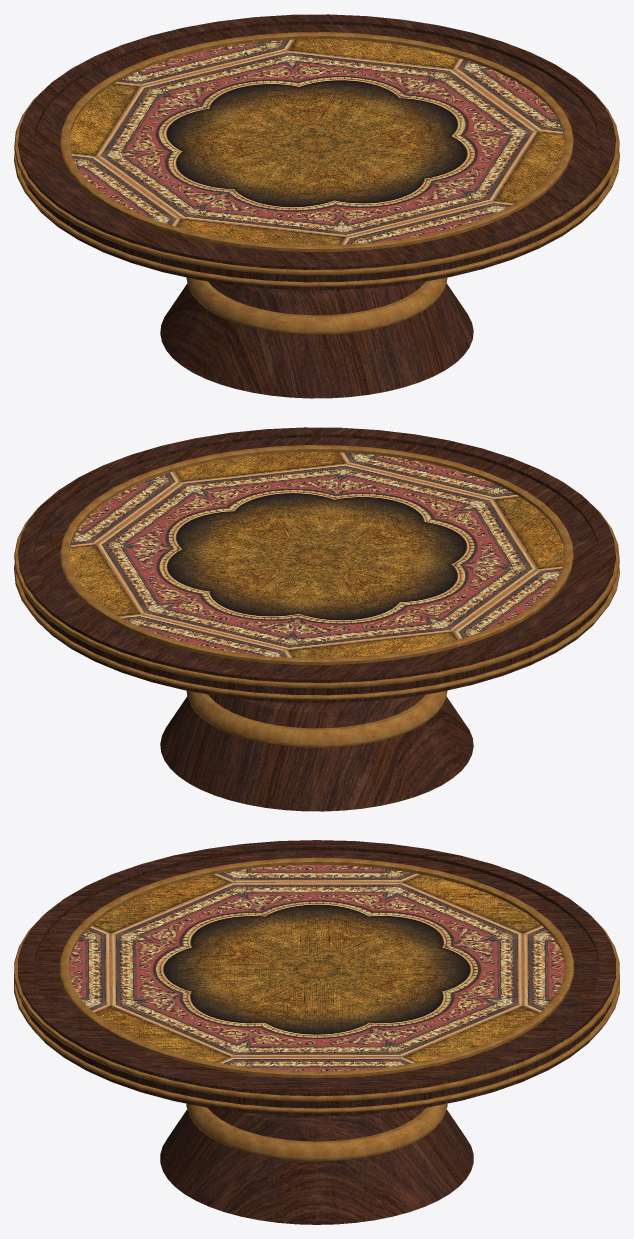
The model's file is fbxTable.fbx.
The picture shows the model from 3 angles, top to bottom: view 1: azimuth 30°, elevation 25°; view 2: azimuth 150°, elevation 25°; view 3: azimuth 270°, elevation 25°; orthographic projection.
Visible parts, largest first — view 1: table; view 2: table; view 3: table.
Boxes of the visible parts, x1=… form: table: x1=14, y1=14, x2=619, y2=398; table: x1=14, y1=427, x2=619, y2=811; table: x1=14, y1=840, x2=619, y2=1224.
Bounding box in the file's own units: 1.11 × 0.3901 × 1.11.
3 materials, 3 textured.
